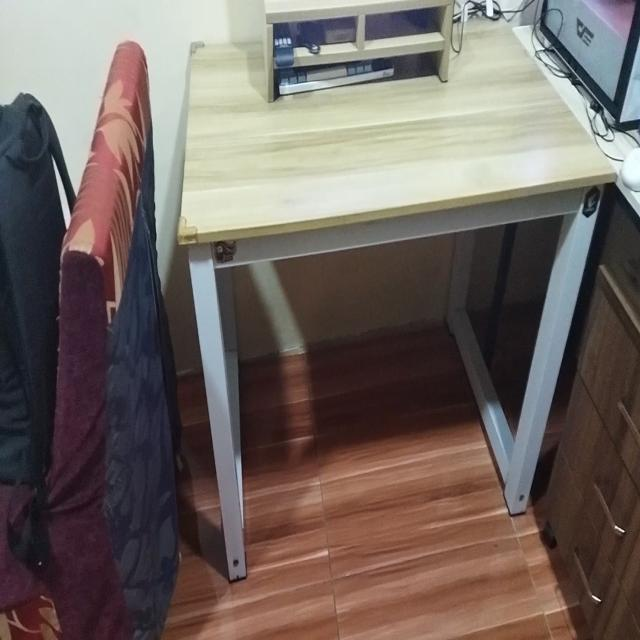table: (175, 15, 597, 567)
